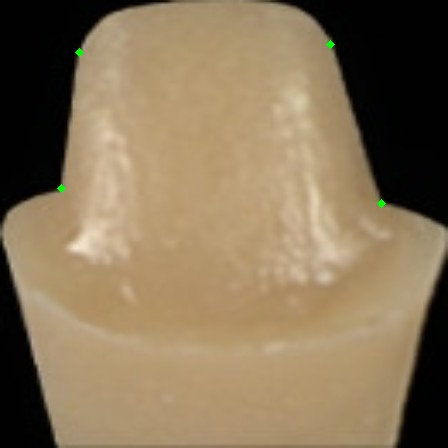coin_1: (61, 188, 81, 208)
coin_2: (79, 52, 99, 72)
coin_3: (381, 203, 401, 223)
coin_4: (330, 44, 350, 64)
